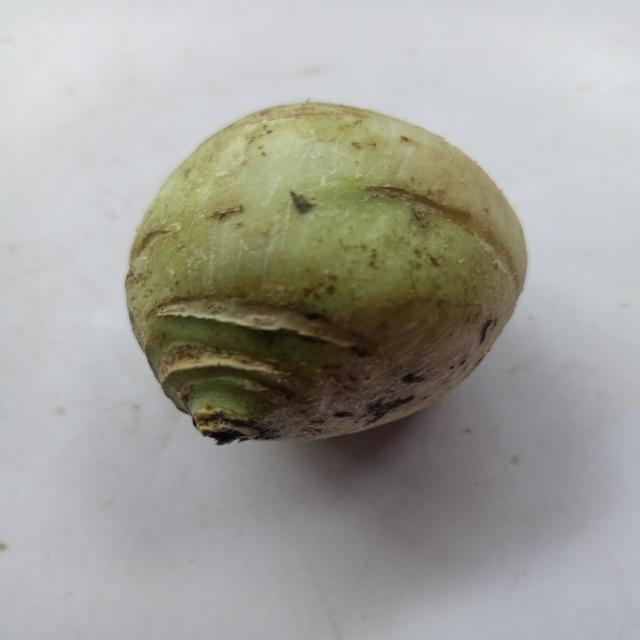Turnip: (111, 87, 548, 470)
